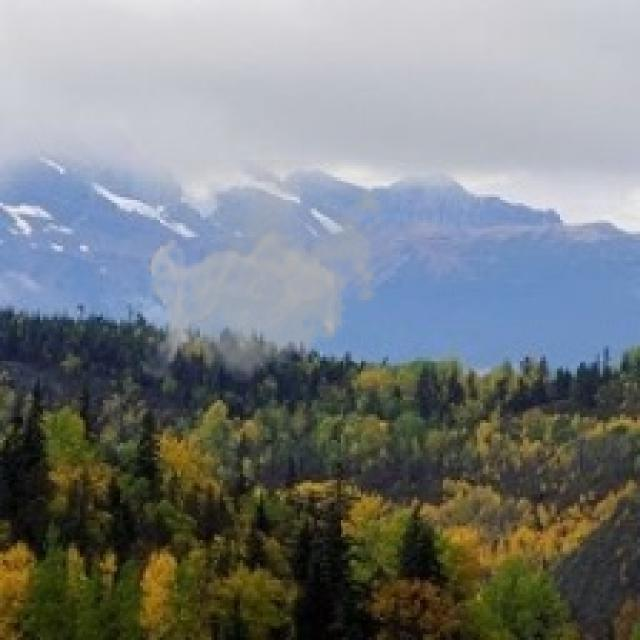Smoke: (142, 160, 392, 392)
